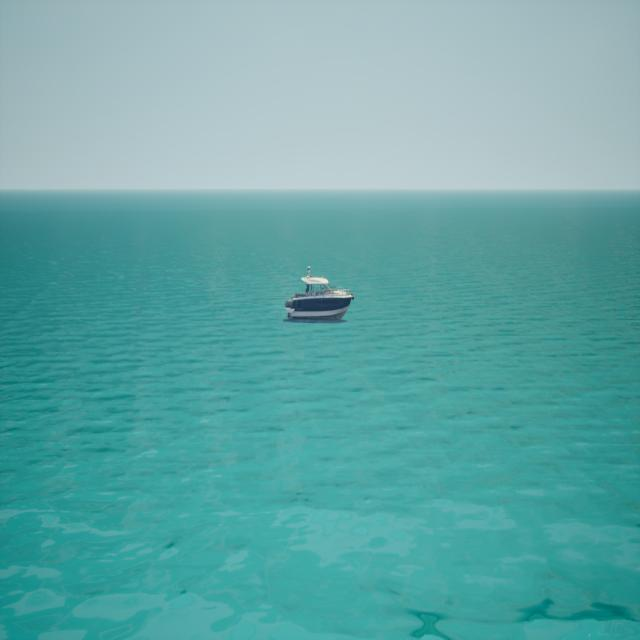ship: (284, 264, 356, 321)
